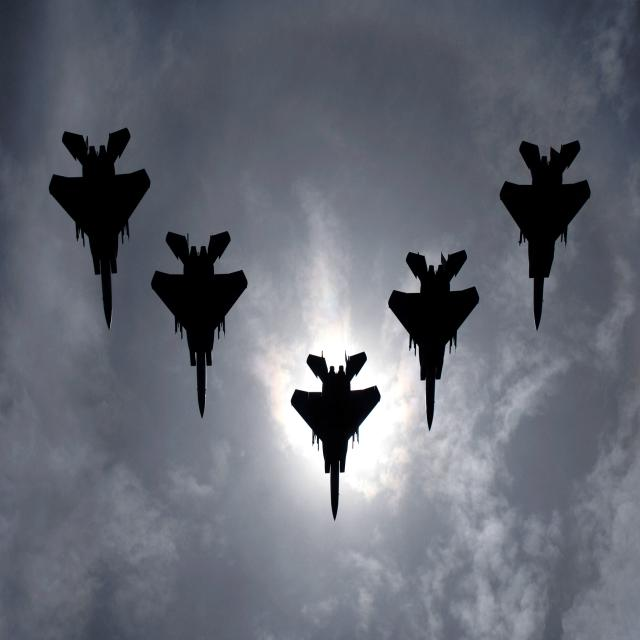MIL_Plane: (48, 127, 151, 330), (152, 230, 248, 419), (499, 140, 591, 332), (388, 249, 480, 431), (290, 350, 380, 521)
